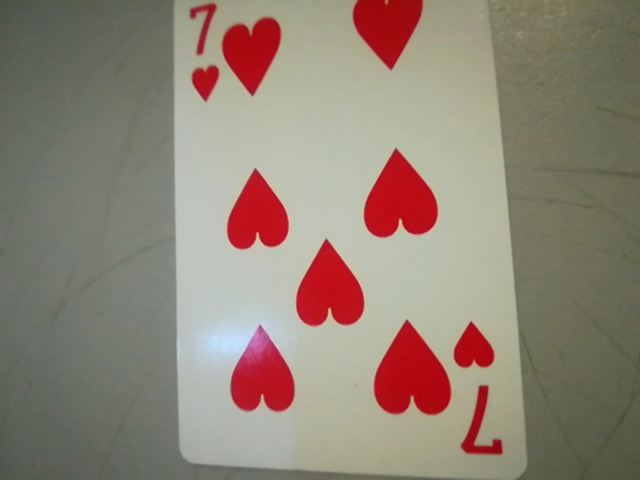hx 7: (447, 312, 519, 474)
